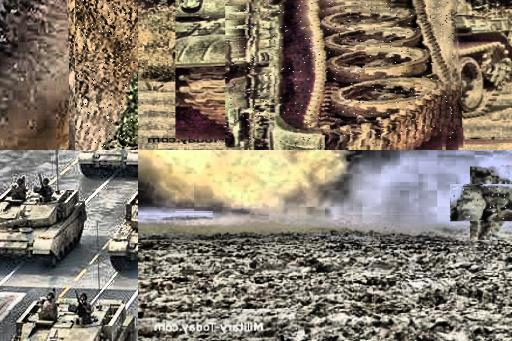tanks: (226, 3, 454, 150), (1, 180, 87, 266), (14, 300, 137, 341), (109, 192, 139, 272), (453, 188, 512, 220), (80, 151, 139, 178)
